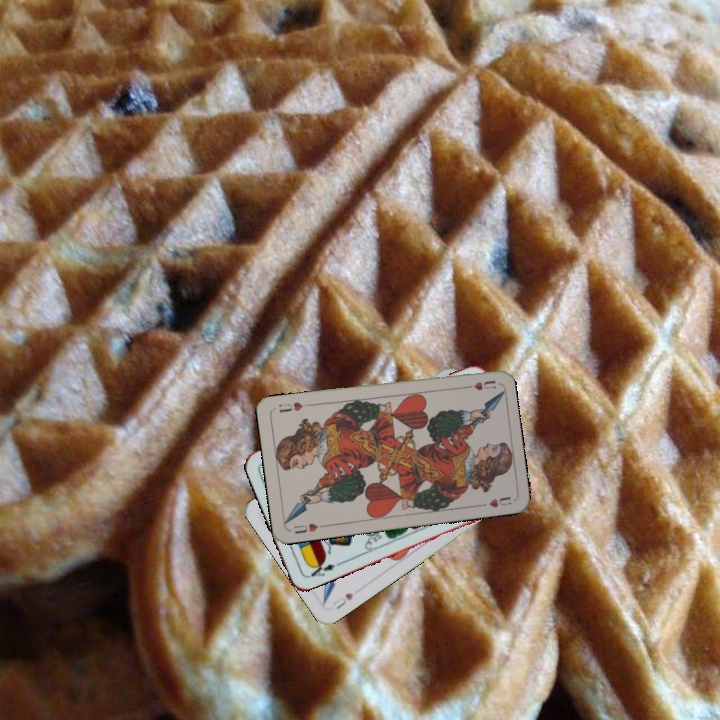EA: (304, 557, 338, 580)
HU: (290, 519, 327, 537), (328, 589, 356, 612), (458, 376, 498, 392)
